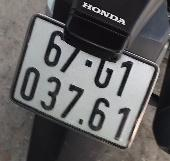0: (16, 65, 43, 105)
1: (109, 56, 137, 101), (108, 103, 133, 143)
3: (37, 73, 66, 115)
6: (39, 28, 68, 71), (86, 94, 115, 135)
7: (58, 80, 86, 124), (57, 34, 85, 77)
G: (89, 50, 122, 93)
